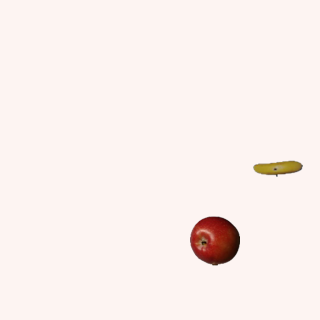Apple Braeburn: (189, 215, 239, 265)
Banana: (252, 143, 302, 193)
